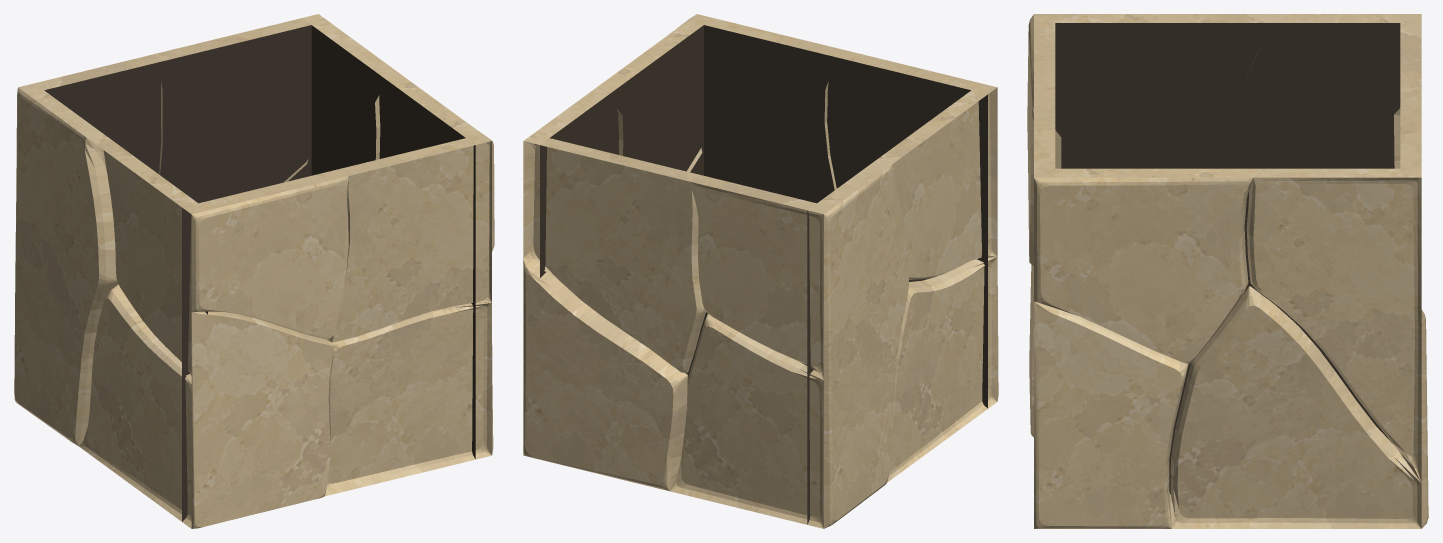
Rendered from ground_square_island_04.glb.
The picture shows the model from 3 angles, left to right: view 1: azimuth 30°, elevation 25°; view 2: azimuth 150°, elevation 25°; view 3: azimuth 270°, elevation 25°; orthographic projection. The views are drawn at different scales.
Parts seen in each view (by area): view 1: GroundSquareIsland04_Body; view 2: GroundSquareIsland04_Body; view 3: GroundSquareIsland04_Body.
Boxes of the visible parts, x1,y1,x2,y2 form: GroundSquareIsland04_Body: (14, 14, 494, 528); GroundSquareIsland04_Body: (523, 14, 998, 528); GroundSquareIsland04_Body: (1027, 14, 1428, 528).
Size of the model in its own units: 1.04 by 1 by 1.04.
Materials: 17 (16 with a texture image).
